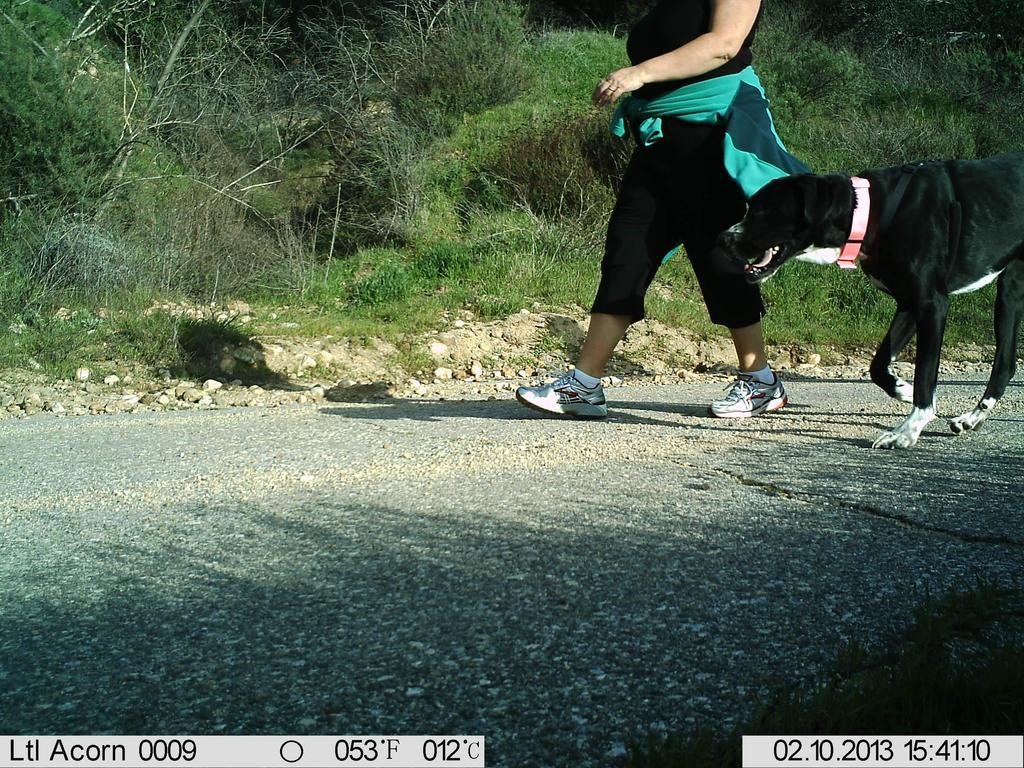dog: (715, 144, 1023, 464)
